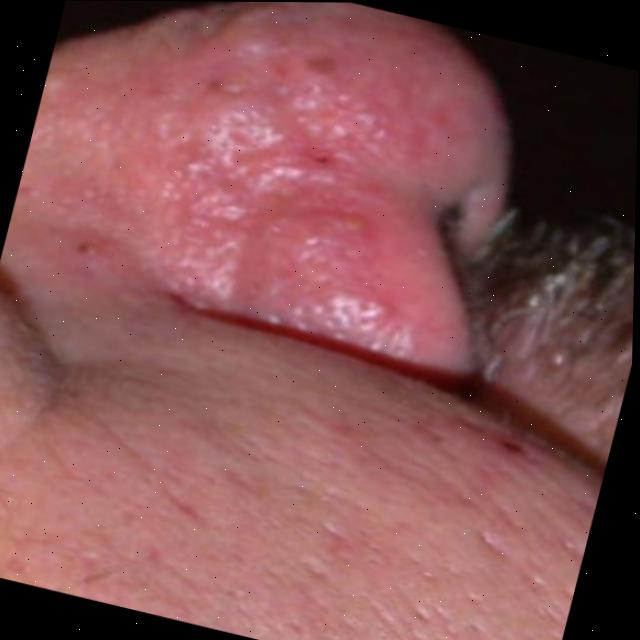Rosacea: (18, 3, 454, 371)
